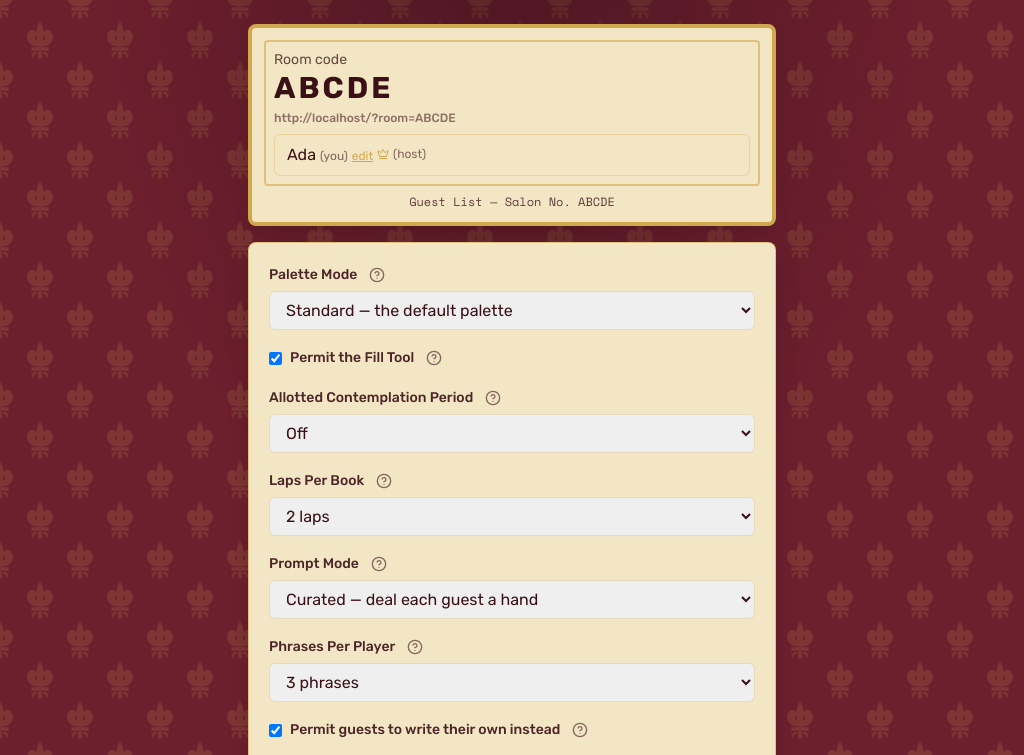
Test: Lobby host-setting info affordances › explains the phrases-per-player selector
The image size is (1024, 755).
Click the button named "how large is each hand" at x=415, y=647, box x1=403 y1=635 x2=427 y2=659
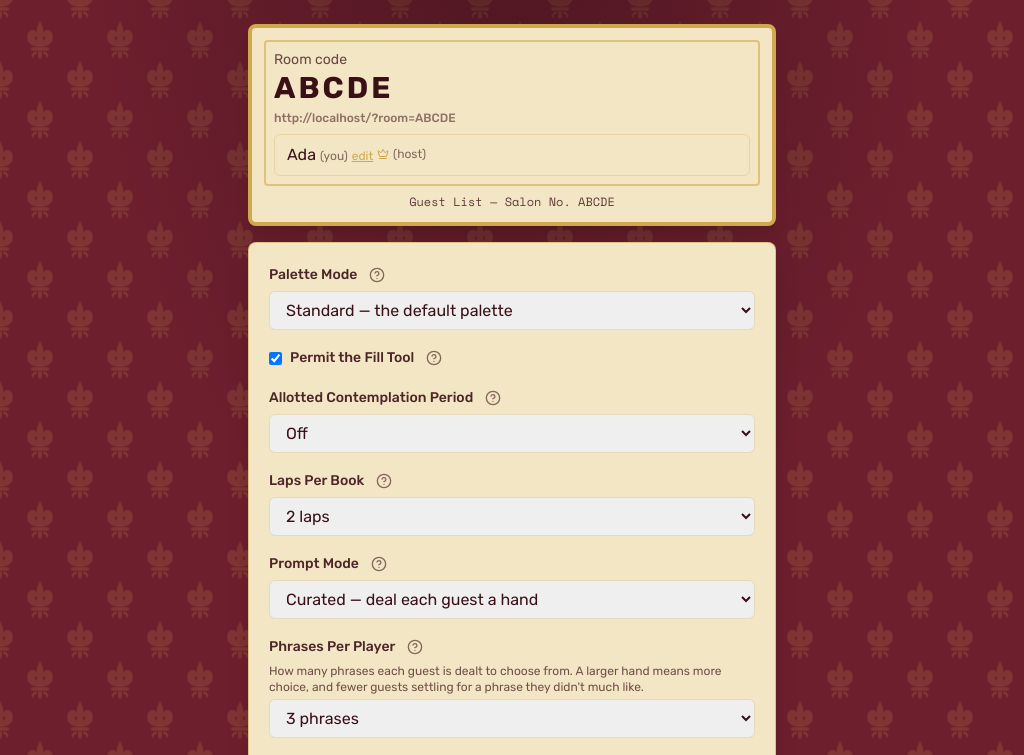
Expected: the dropdown labelled "Phrases Per Player" is shown, x1=269 y1=699 x2=755 y2=738
Now the text "more choice" is shown, box x1=269 y1=664 x2=722 y2=694
